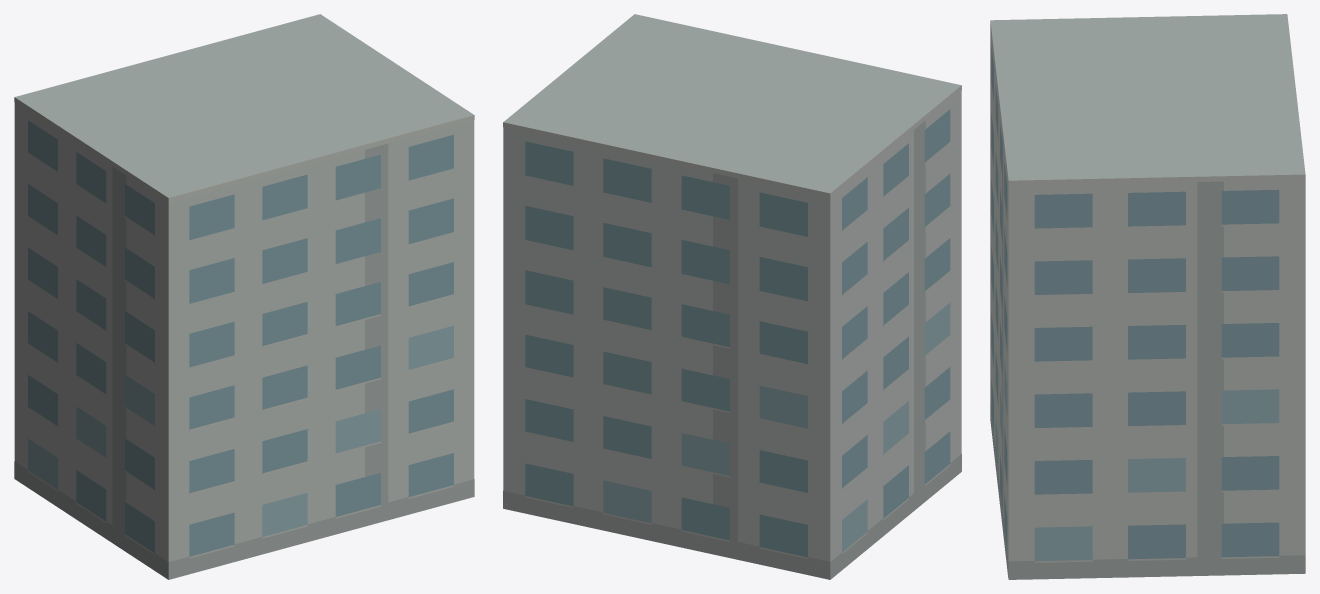
Rendered from survey-upis-32582012.glb.
The picture shows the model from 3 angles, left to right: view 1: azimuth 30°, elevation 25°; view 2: azimuth 150°, elevation 25°; view 3: azimuth 270°, elevation 25°; orthographic projection. The views are drawn at different scales.
Parts seen in each view (by area): view 1: survey-upis-32582012.tmp; view 2: survey-upis-32582012.tmp; view 3: survey-upis-32582012.tmp.
Part boxes in pixels (<box>): survey-upis-32582012.tmp: <box>14,14,474,579</box>; survey-upis-32582012.tmp: <box>503,14,961,579</box>; survey-upis-32582012.tmp: <box>990,14,1305,579</box>.
Size of the model in its own units: 16.39 by 18.3 by 13.1.
